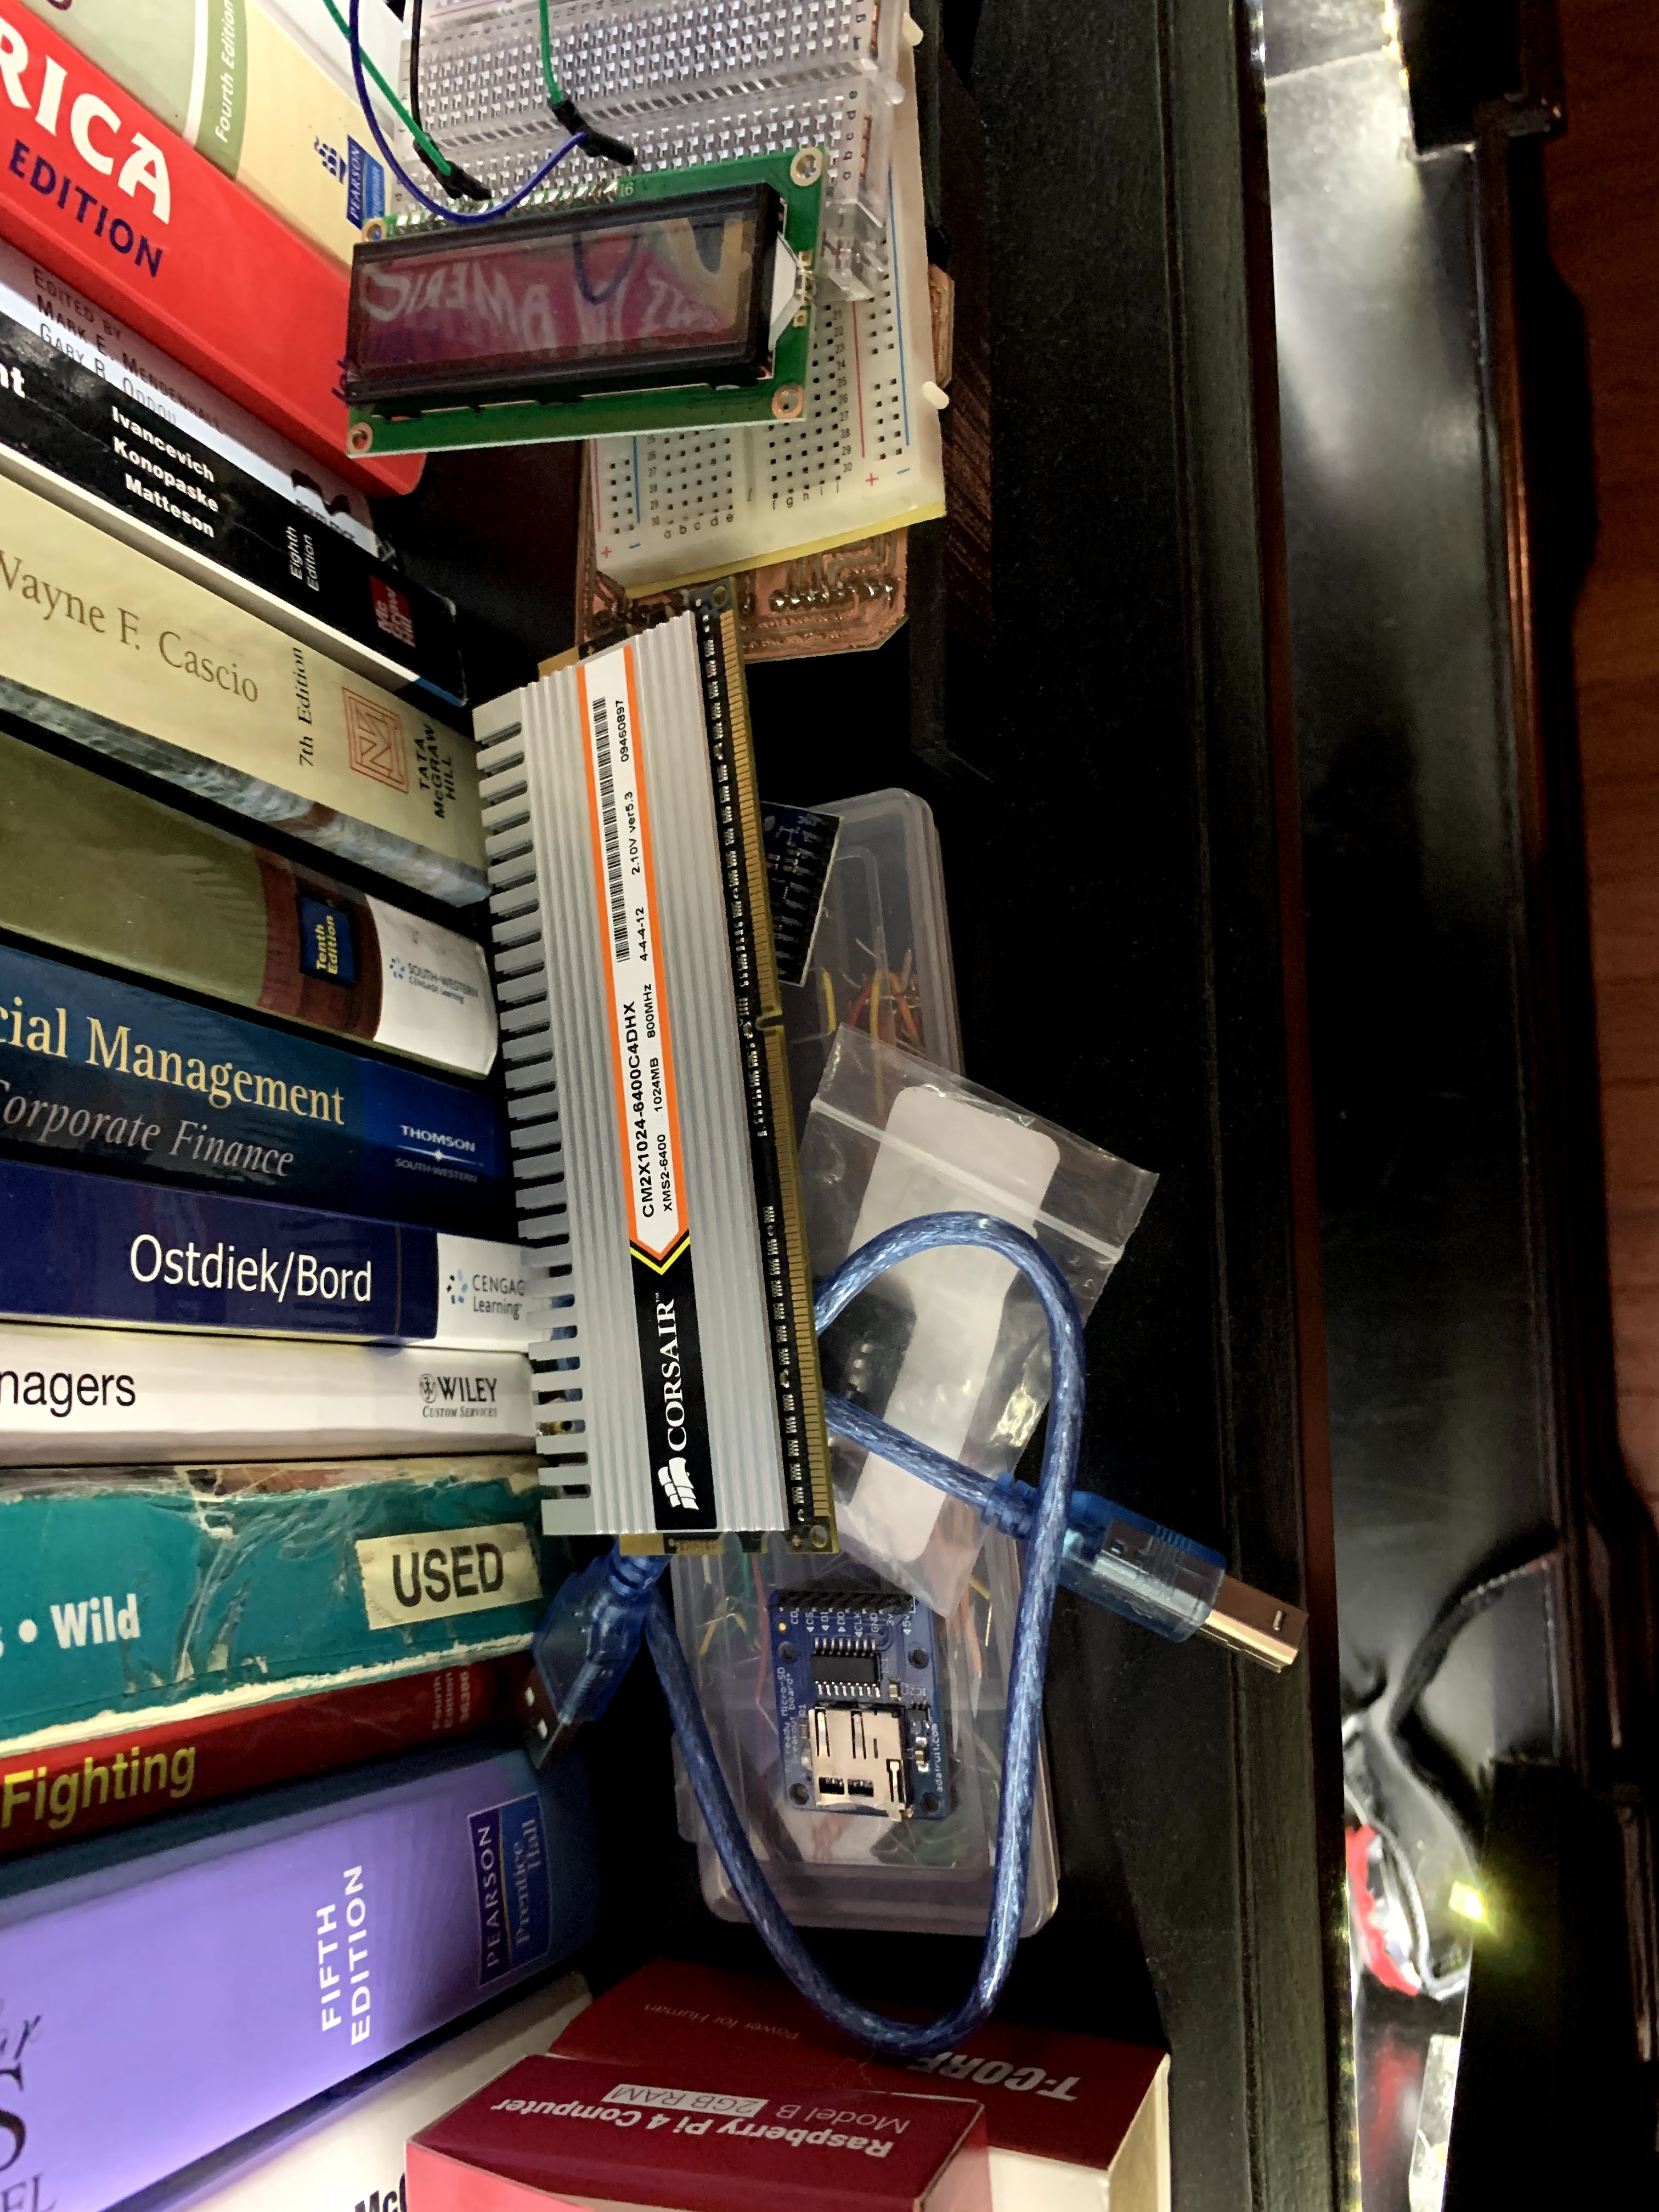Space-debris-medium: (465, 603, 847, 1566)
